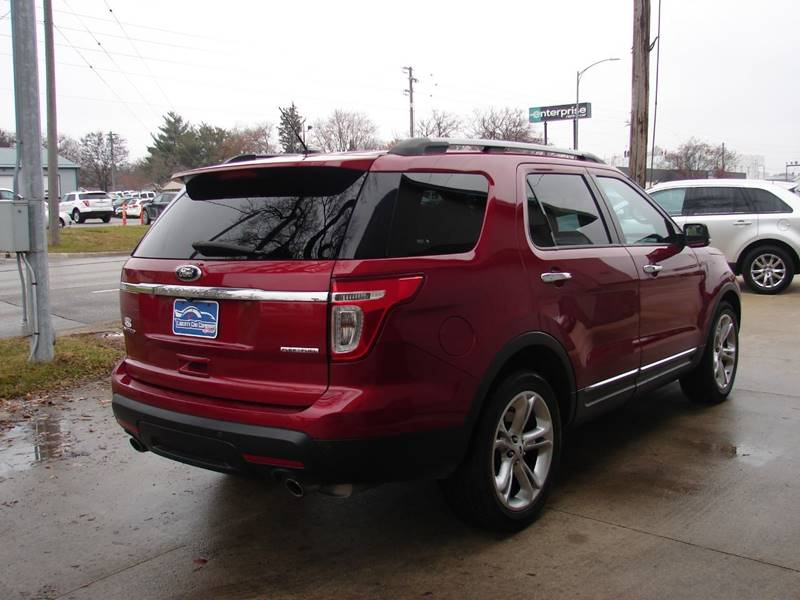Ford Explorer: (111, 137, 742, 534)
